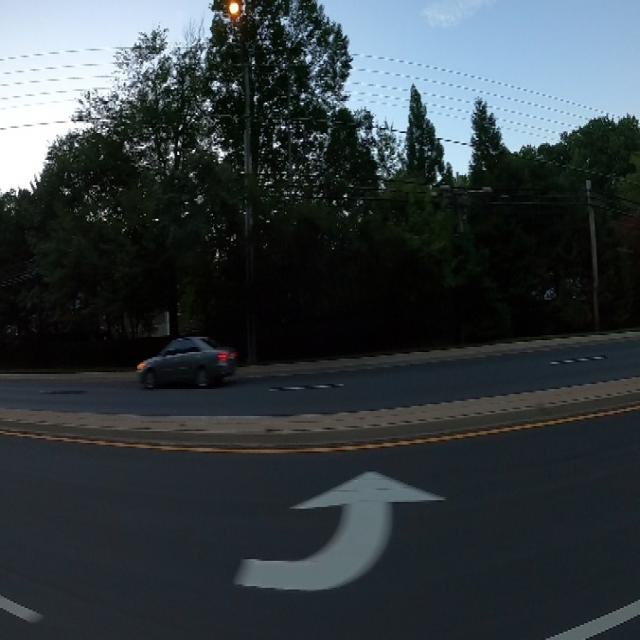cars: (128, 328, 240, 408)
